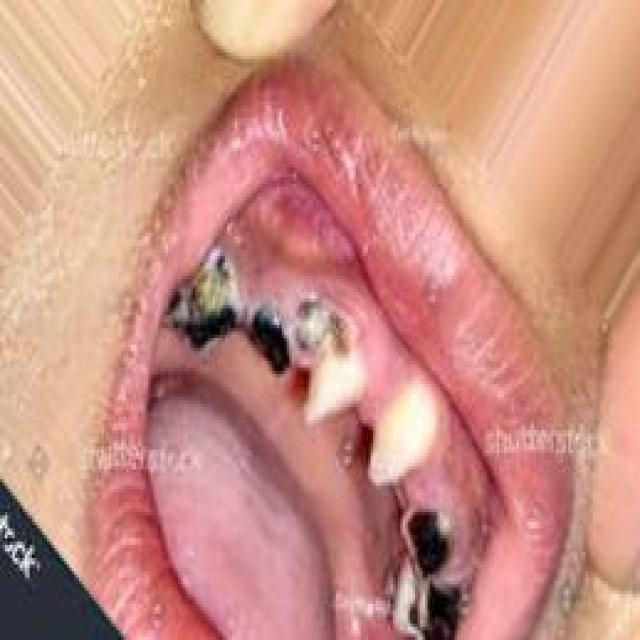caries: (286, 289, 367, 429), (162, 242, 245, 361), (394, 494, 474, 592), (385, 562, 466, 640), (248, 296, 296, 388)
